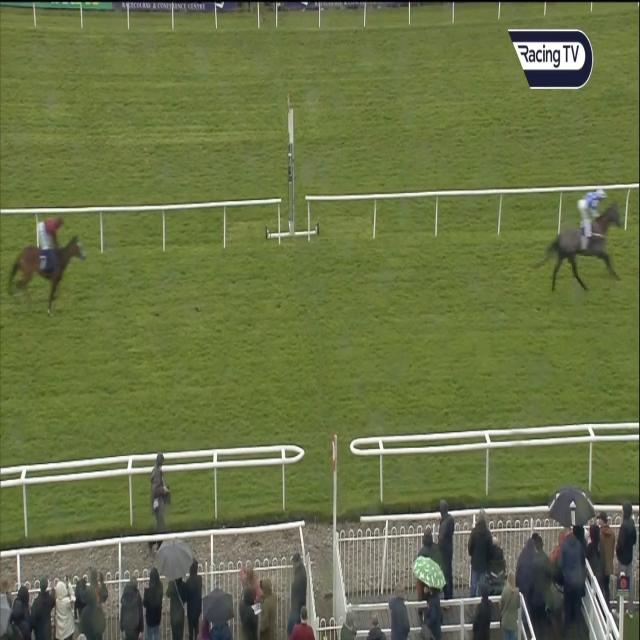horses-racing: (3, 208, 106, 316), (543, 184, 628, 298)
